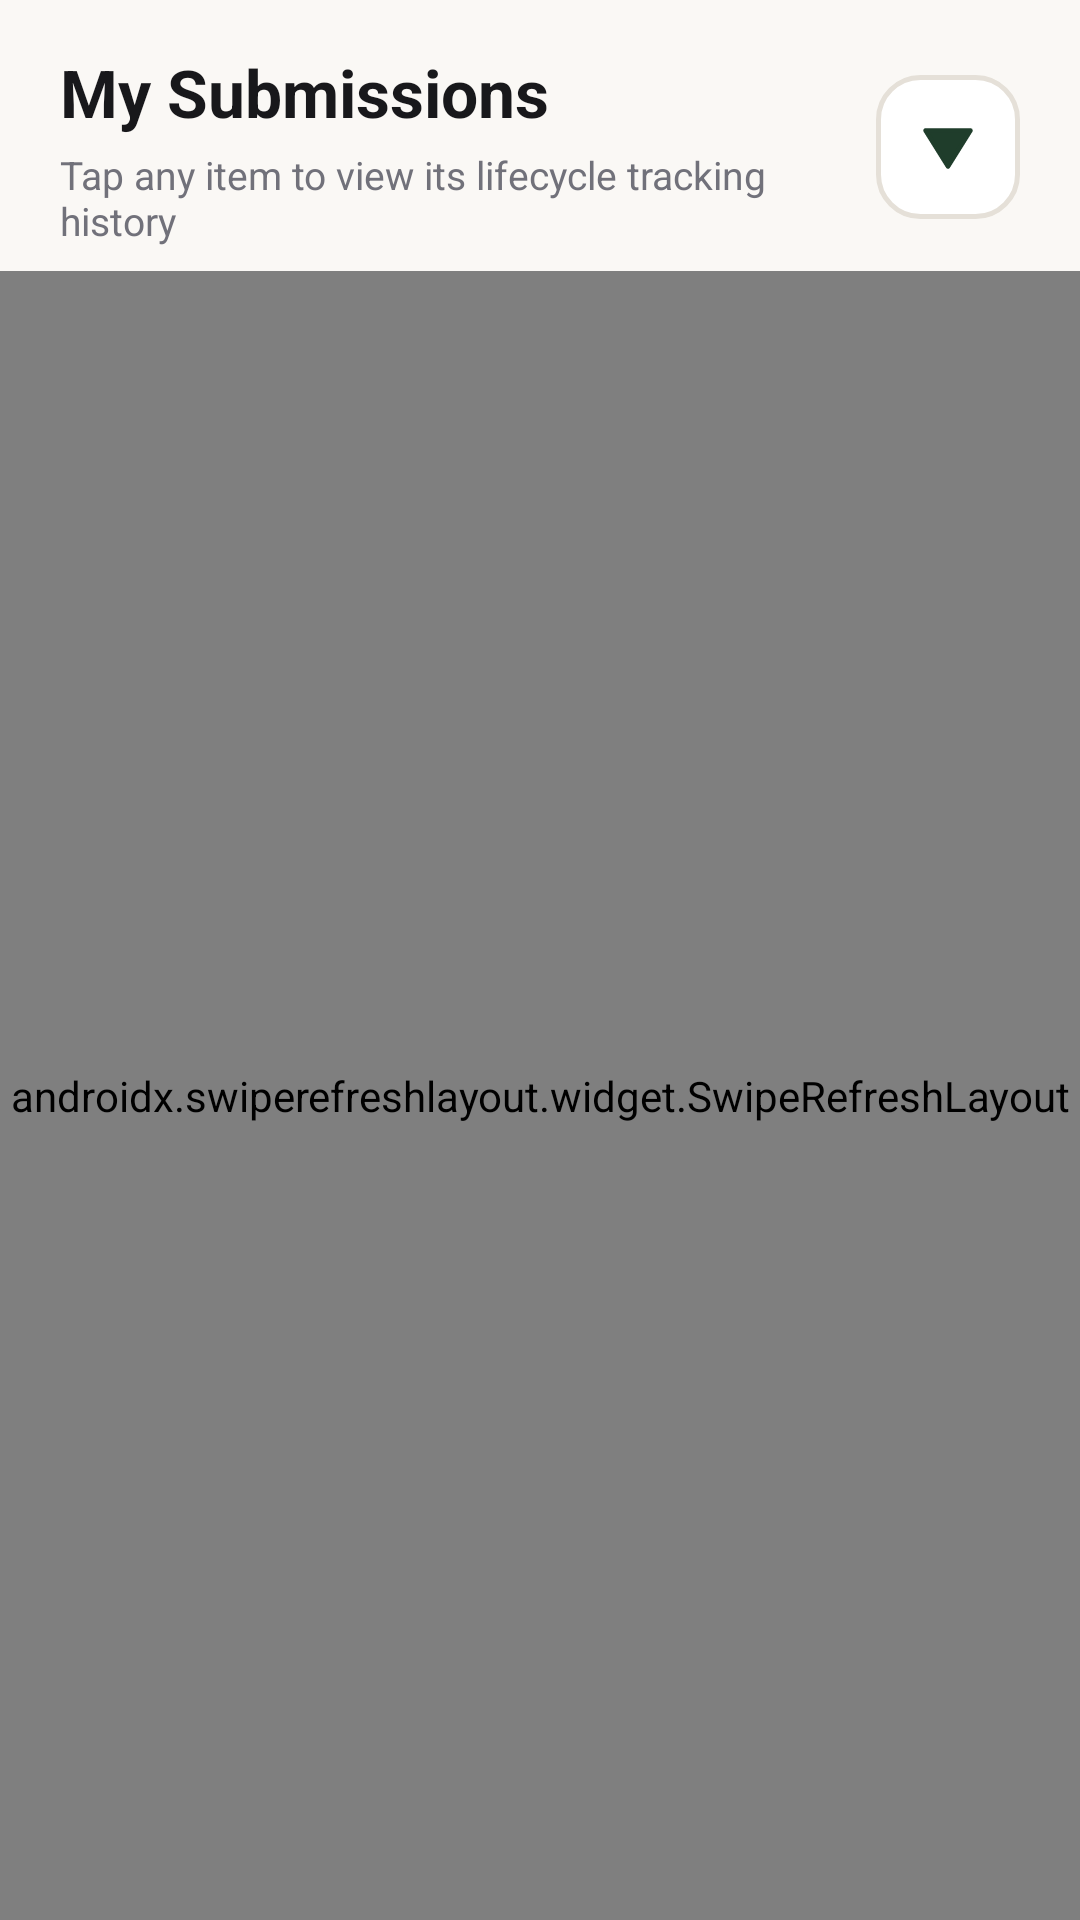

Locate icon controls on the screen. Image size 1080×1920, boxes as (x1, y1, x2, y2).
Quick Action Menu: (876, 75, 1020, 219)
